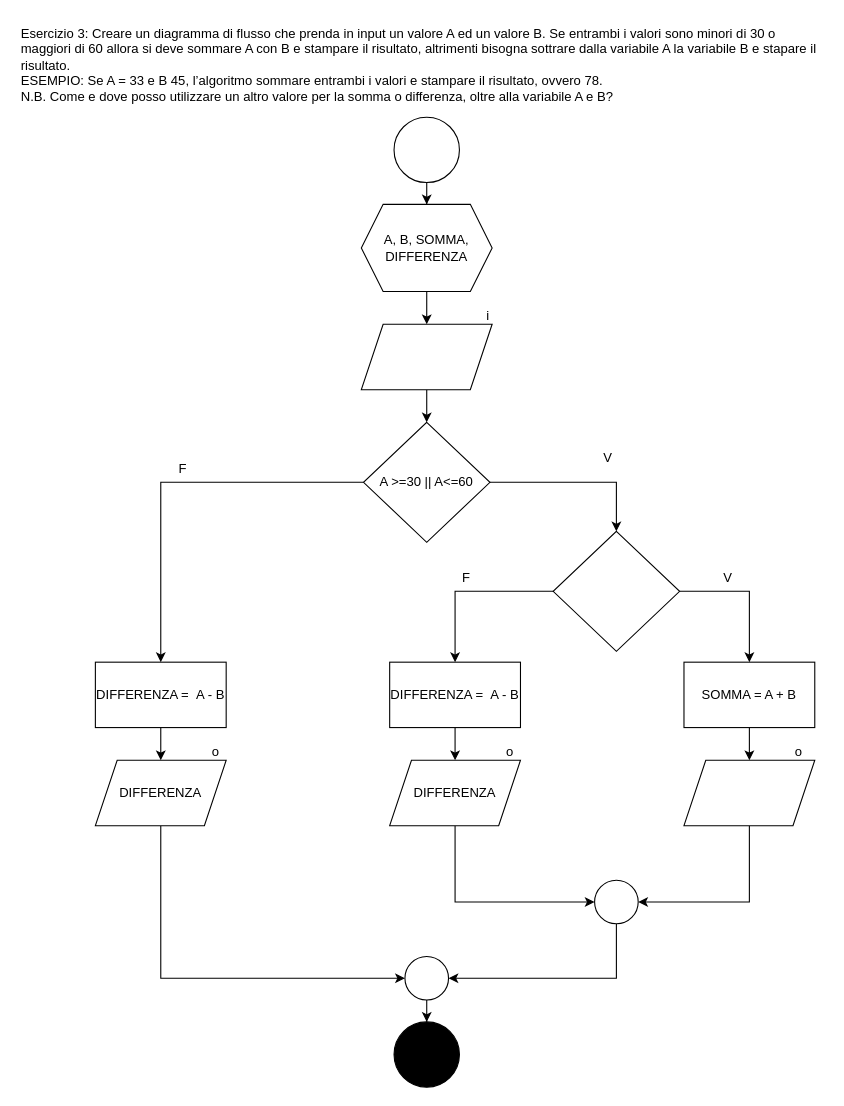
Image size: 844x1106. Some labels were removed from this diagram. The shapes that lost their labels are listed below. From the top down, each one's box as (x1, y1, x2, y2) in pixels, then its label:
(360, 323, 492, 390): A, B
(552, 530, 680, 651): B >=30 || B<=60
(683, 759, 815, 826): SOMMA
